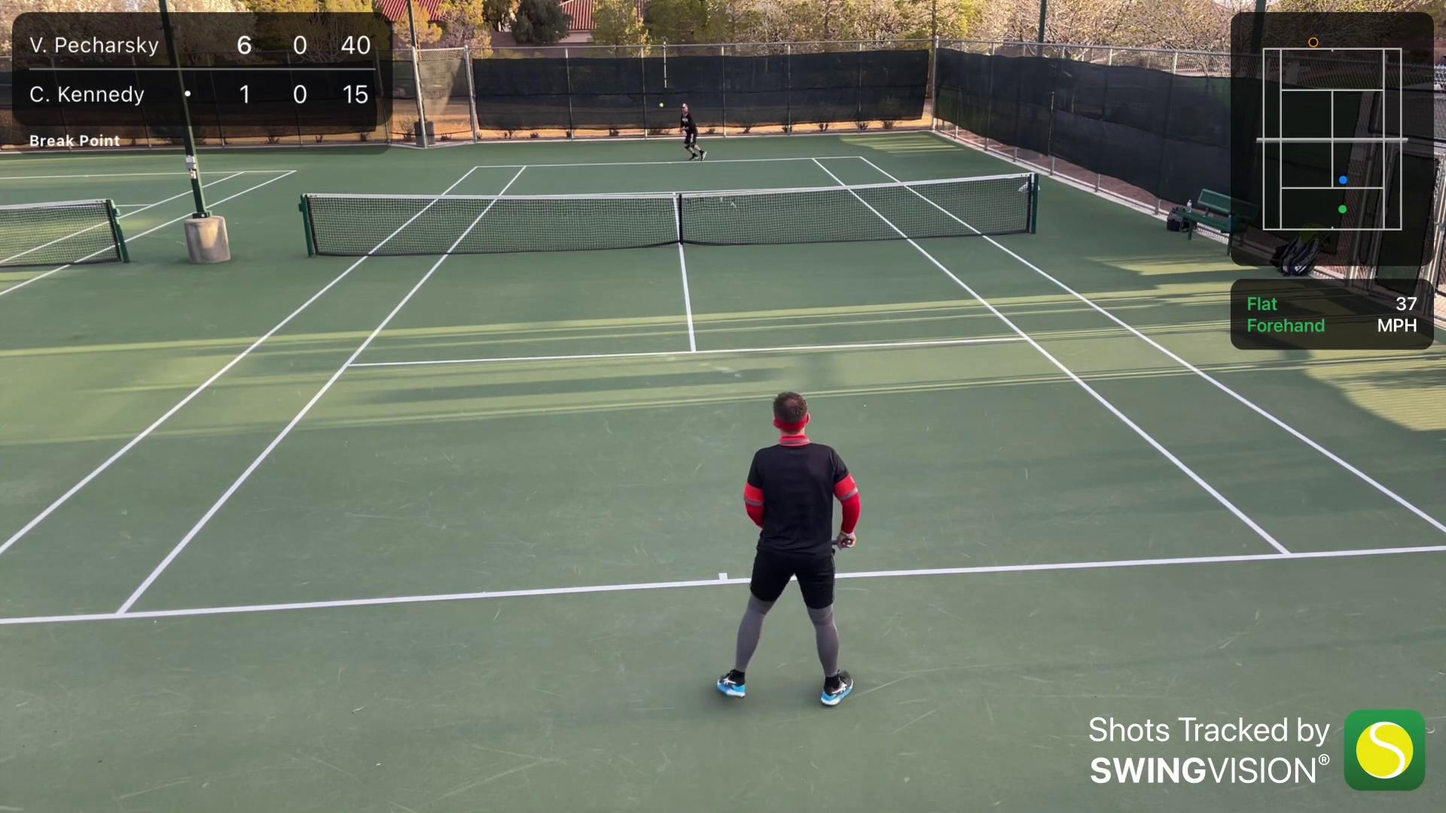ball: (658, 102, 665, 108)
